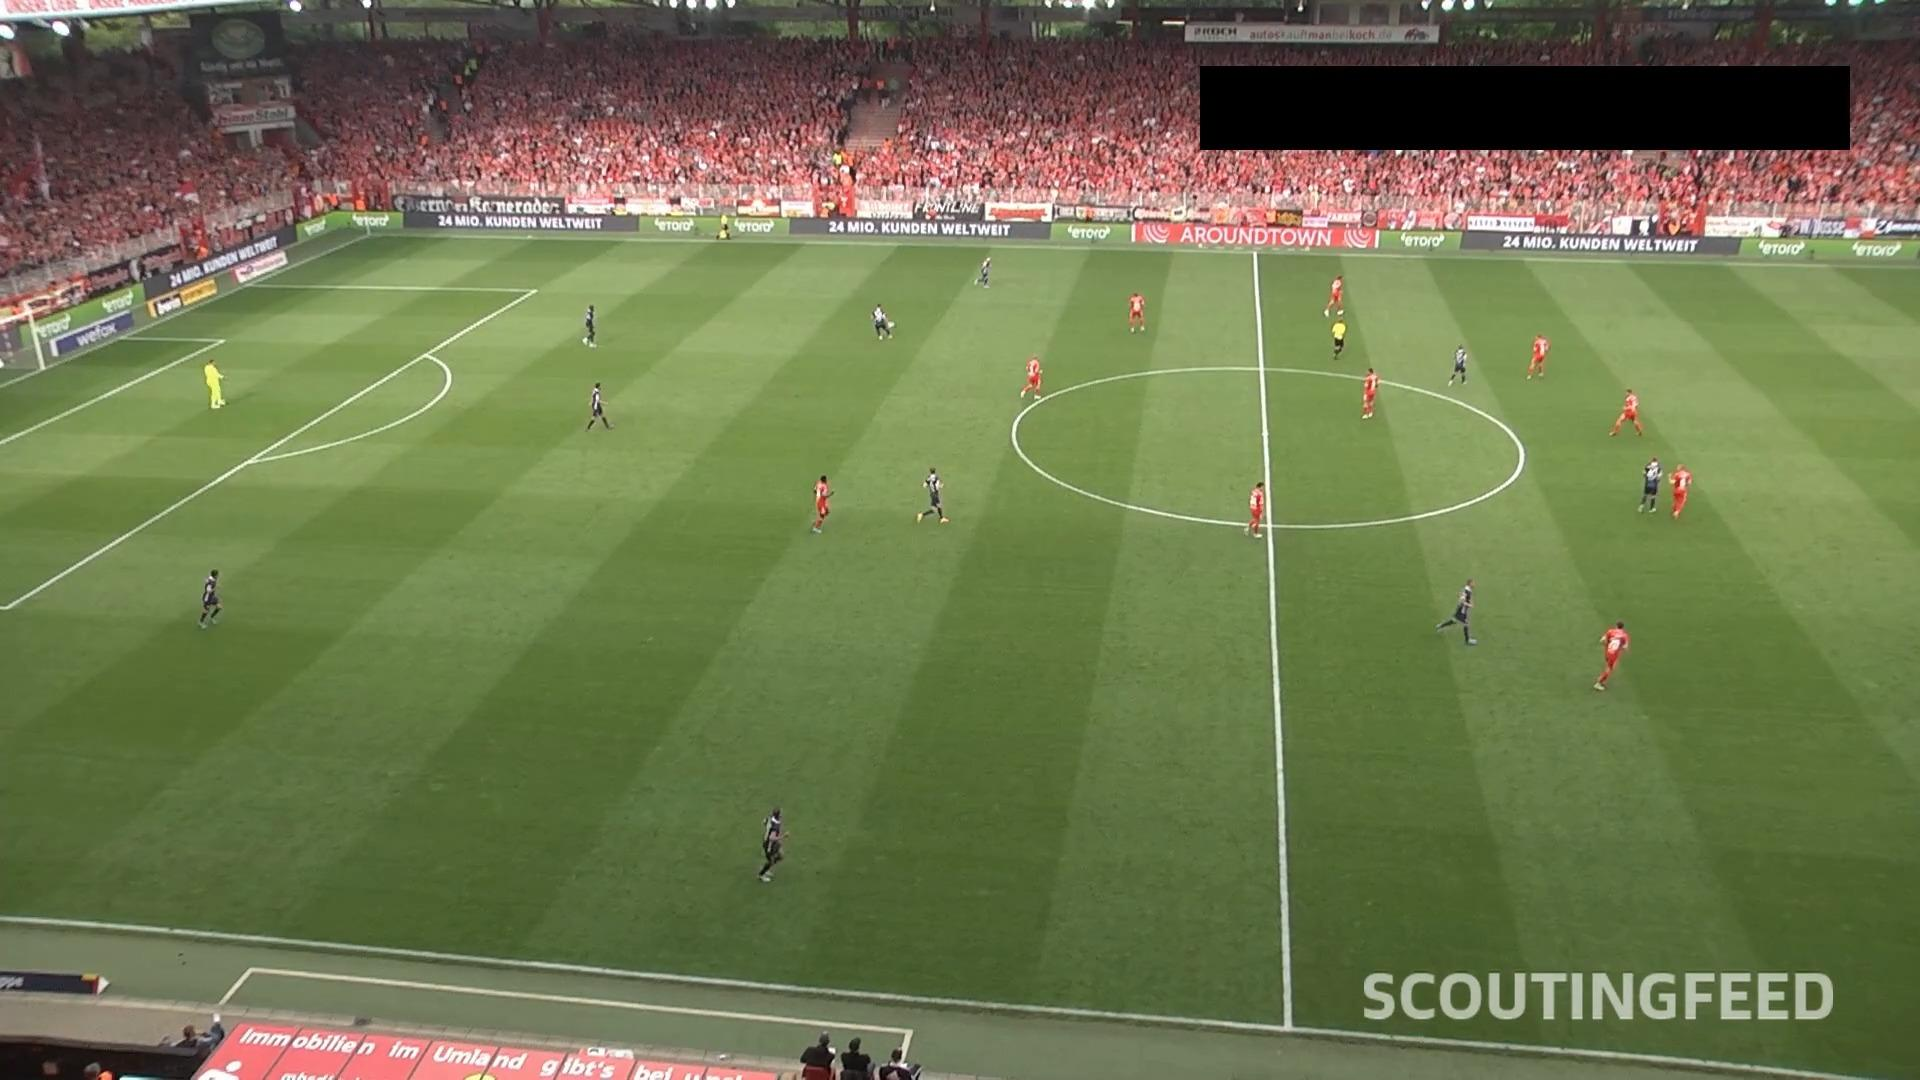ball: (884, 319, 897, 330)
